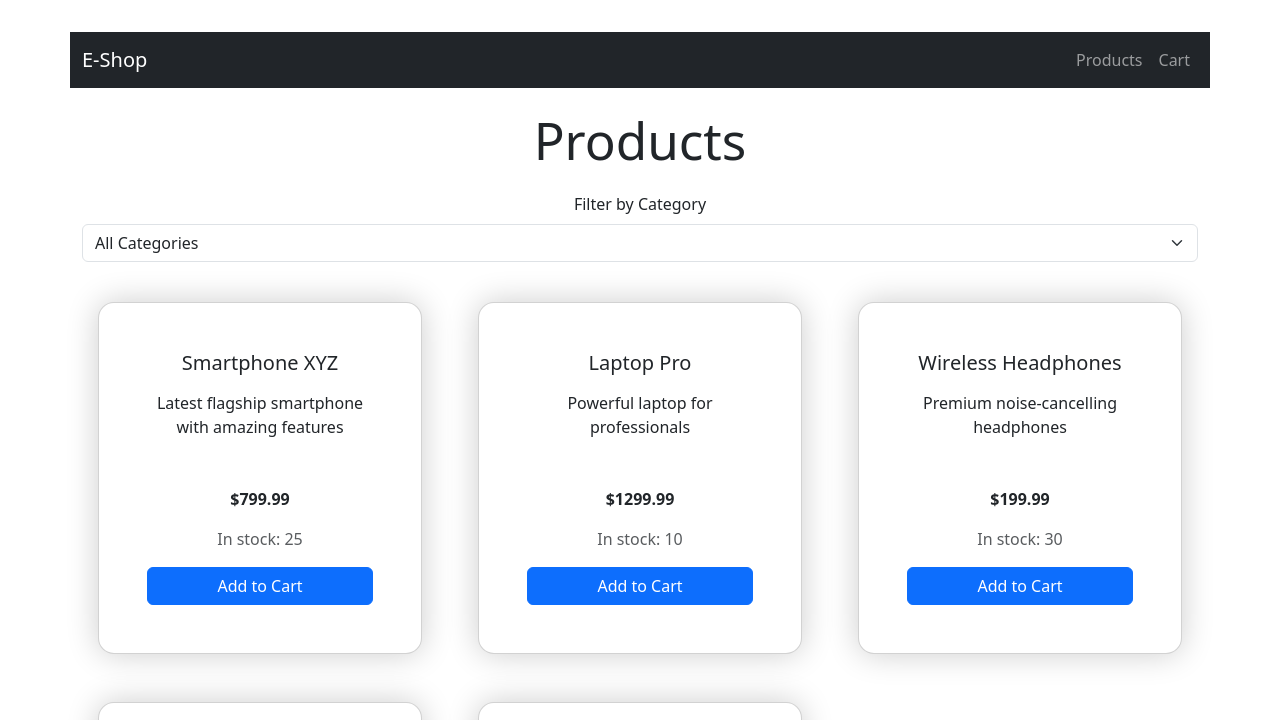
it: Payment Page › should validate email format
This screenshot has width=1280, height=720.
Click the button "Add to Cart" below "In stock: 25": click(260, 586) [147,567,373,605]
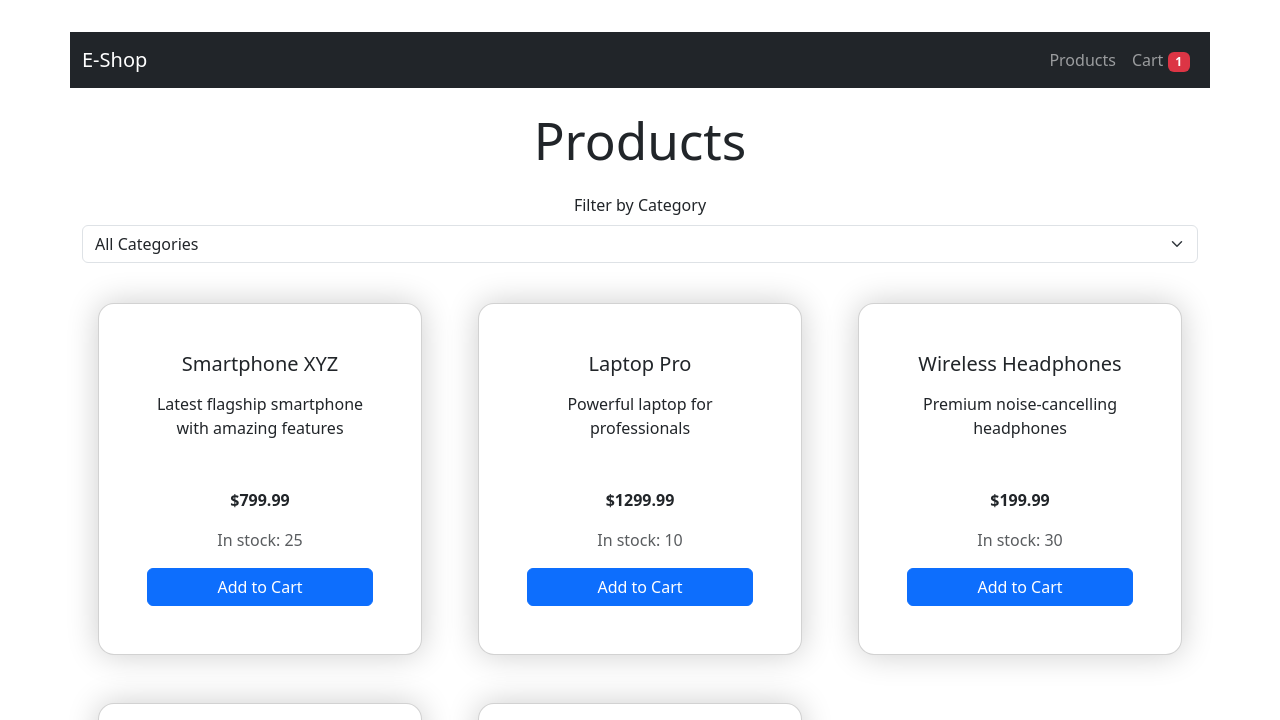
Click the link "Cart 1": click(1161, 61) [1132,49,1190,72]
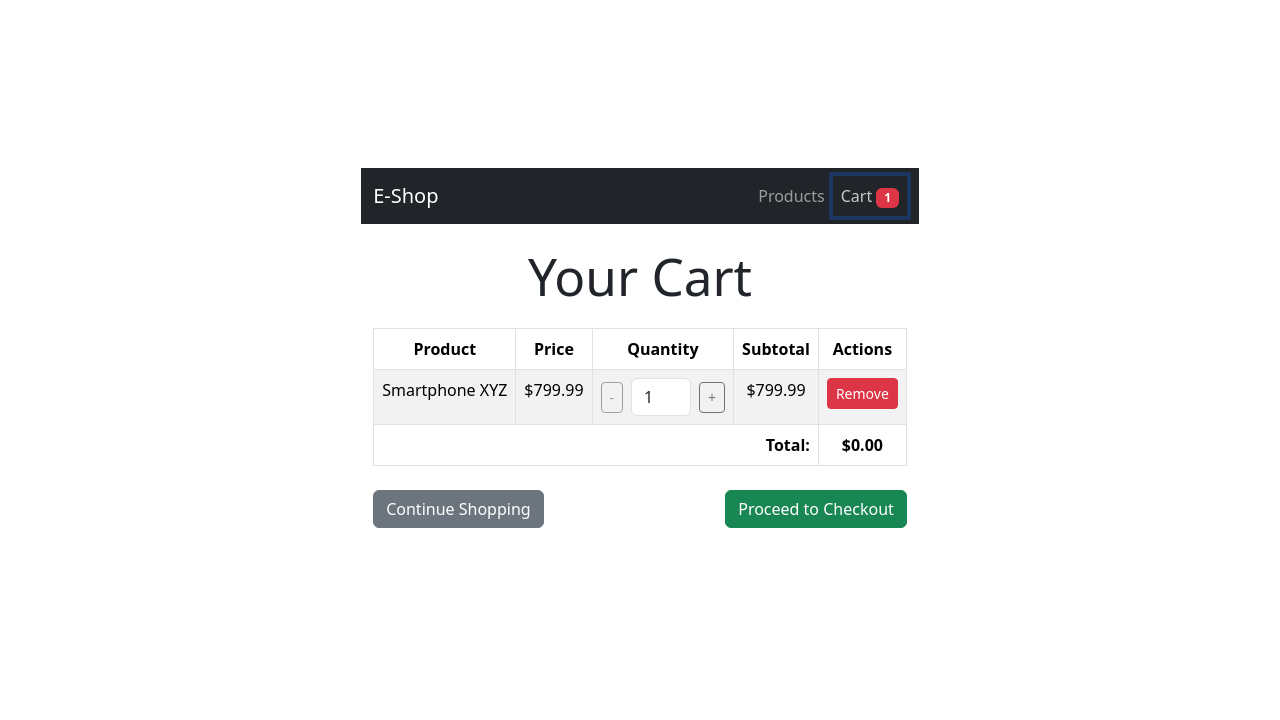
Click the button "Proceed to Checkout": click(816, 509) [725,490,907,528]
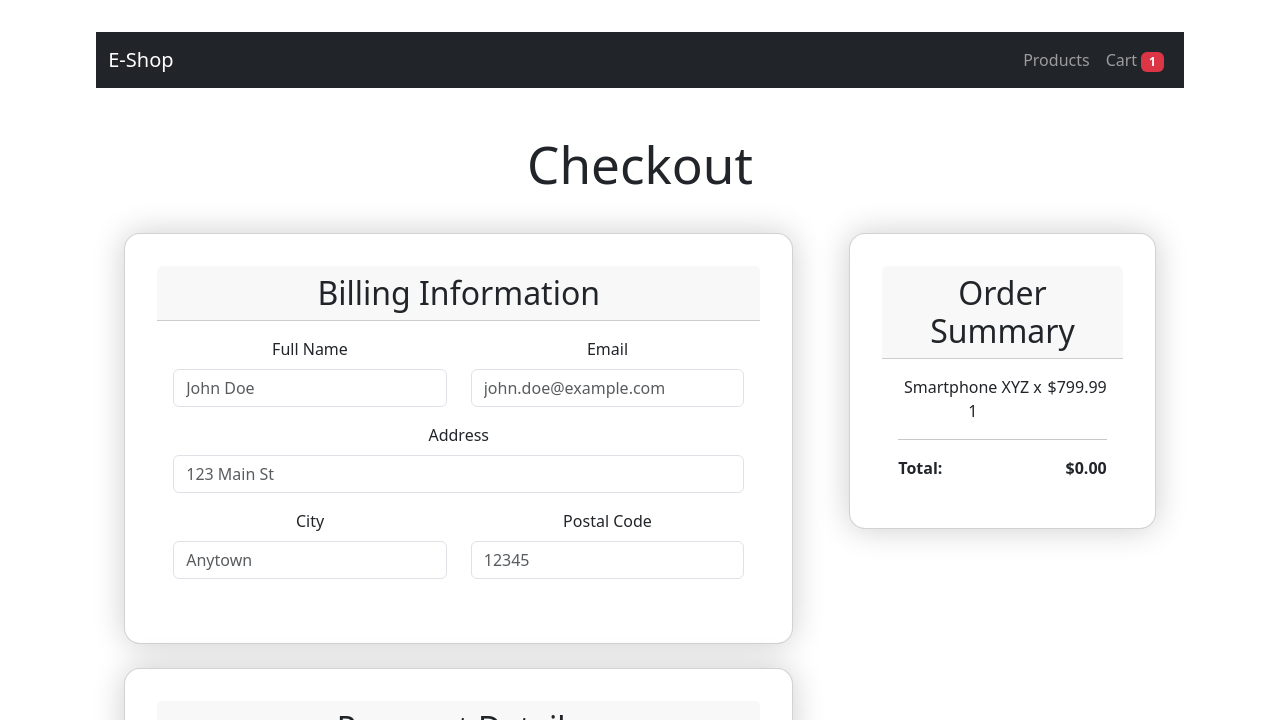
In the field with id "email": (608, 388) [471,369,745,407], type "invalid-email"
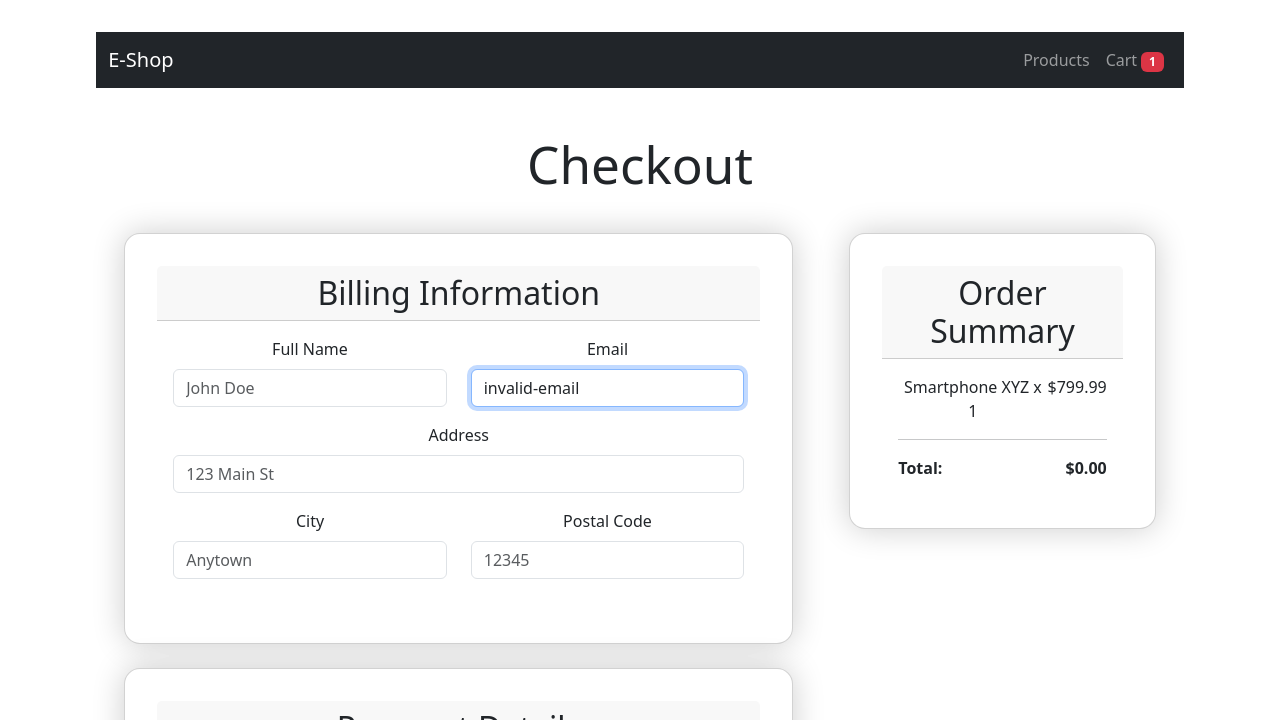
Submit the form, box [108,233,809,719]
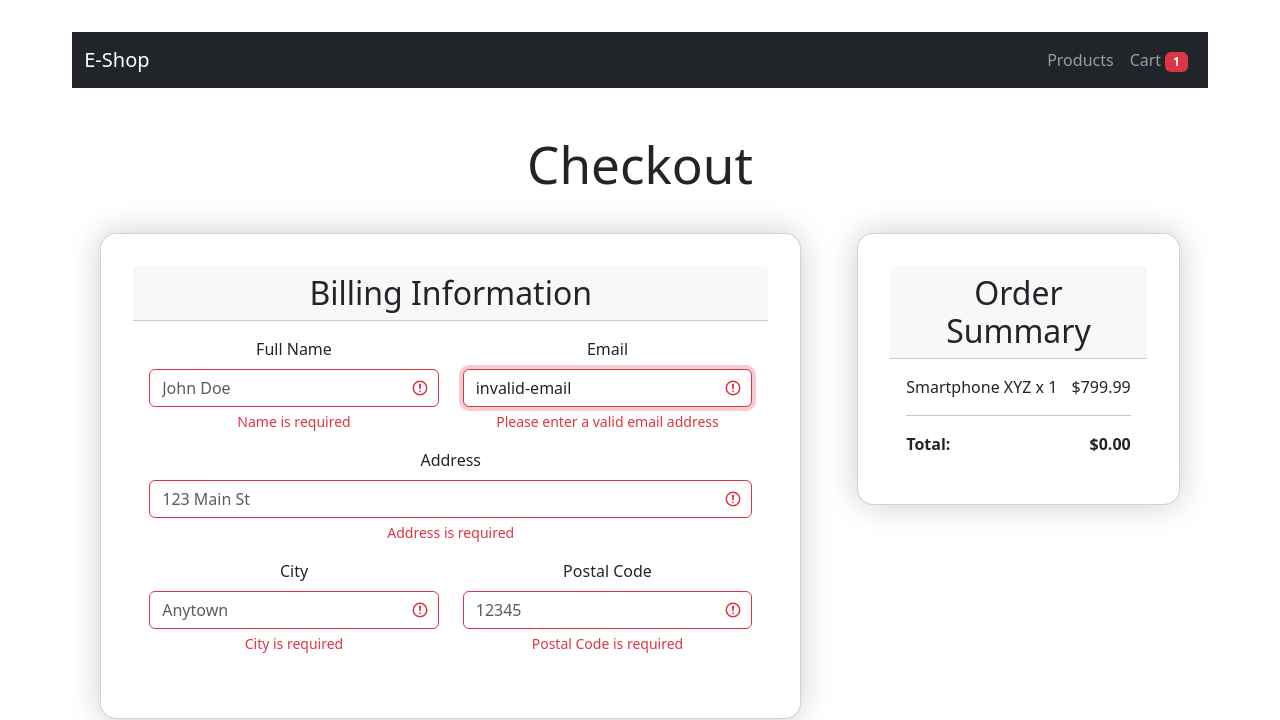
Check: the text "Please enter a valid email address" is shown, box [496,412,719,431]
